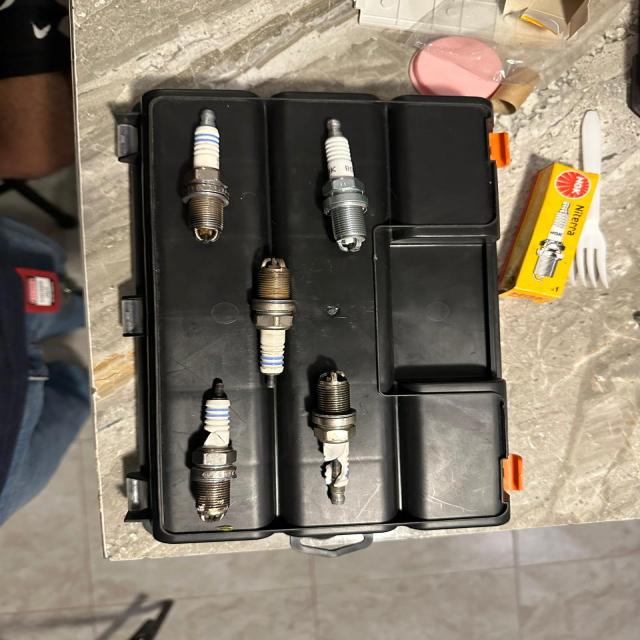damaged_spark-plug: (309, 369, 355, 505), (194, 375, 234, 518)
spark-plug: (178, 101, 238, 248), (312, 112, 372, 258), (253, 257, 292, 391)
